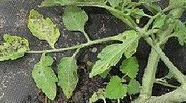Tomato Septoria leaf spot: (25, 6, 61, 51), (0, 35, 31, 65)
